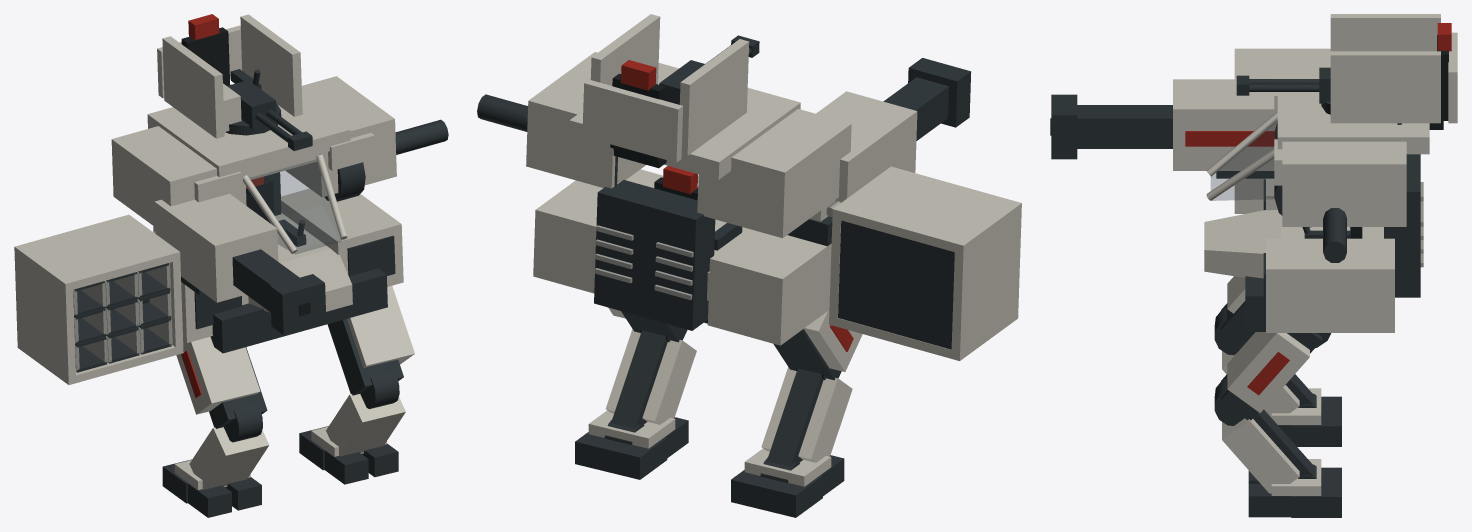
3 renders of one model, left to right at view 1: azimuth 30°, elevation 25°; view 2: azimuth 150°, elevation 25°; view 3: azimuth 270°, elevation 25°, orthographic. The views are drawn at different scales.
Visible parts, largest first — view 1: mech-torso-painted, mech-silo-left-lower-painted, mech-cannon-recoil-painted, mech-mg-yaw-roof-painted, mech-torso-glazing, mech-hip-1-painted, mech-hip-0-painted, mech-knee-0-painted, mech-knee-1-painted, mech-ankle-0-painted, mech-ankle-1-painted, mech-mg-pitch-roof-painted (+2 smaller); view 2: mech-torso-painted, mech-silo-left-lower-painted, mech-mg-yaw-roof-painted, mech-cannon-recoil-painted, mech-knee-1-painted, mech-knee-0-painted, mech-ankle-1-painted, mech-ankle-0-painted, mech-hip-0-painted, mech-seat-gunner-painted, mech-seat-pilot-painted, mech-mg-pitch-roof-painted (+2 smaller); view 3: mech-torso-painted, mech-cannon-recoil-painted, mech-mg-yaw-roof-painted, mech-hip-1-painted, mech-knee-1-painted, mech-ankle-1-painted, mech-silo-left-lower-painted, mech-ankle-0-painted, mech-torso-glazing, mech-knee-0-painted, mech-mg-pitch-roof-painted, mech-hip-0-painted (+1 smaller).
Boxes of the visible parts, box(x1,y1,x2,y2) form: mech-torso-painted: box(111, 76, 448, 353); mech-silo-left-lower-painted: box(14, 214, 183, 384); mech-cannon-recoil-painted: box(153, 193, 326, 335); mech-mg-yaw-roof-painted: box(157, 14, 302, 138); mech-torso-glazing: box(247, 159, 341, 254); mech-hip-1-painted: box(327, 286, 414, 395); mech-hip-0-painted: box(176, 336, 267, 428); mech-knee-0-painted: box(189, 404, 269, 489); mech-knee-1-painted: box(326, 371, 405, 456); mech-ankle-0-painted: box(162, 459, 261, 517); mech-ankle-1-painted: box(299, 426, 398, 484); mech-mg-pitch-roof-painted: box(223, 80, 312, 150); mech-torso-painted: box(477, 52, 851, 345); mech-silo-left-lower-painted: box(829, 166, 1021, 360); mech-mg-yaw-roof-painted: box(582, 14, 749, 162); mech-cannon-recoil-painted: box(810, 58, 971, 221); mech-knee-1-painted: box(605, 329, 696, 428); mech-knee-0-painted: box(761, 367, 852, 466); mech-ankle-1-painted: box(575, 410, 688, 479); mech-ankle-0-painted: box(731, 448, 844, 517); mech-hip-0-painted: box(773, 310, 862, 380); mech-seat-gunner-painted: box(610, 60, 666, 168); mech-seat-pilot-painted: box(654, 166, 742, 250); mech-mg-pitch-roof-painted: box(659, 35, 759, 104); mech-torso-painted: box(1204, 56, 1429, 332); mech-cannon-recoil-painted: box(1050, 79, 1277, 170); mech-mg-yaw-roof-painted: box(1321, 14, 1457, 123); mech-hip-1-painted: box(1221, 332, 1331, 420); mech-knee-1-painted: box(1214, 378, 1313, 493); mech-ankle-1-painted: box(1248, 459, 1341, 517); mech-silo-left-lower-painted: box(1234, 48, 1330, 213); mech-ankle-0-painted: box(1271, 388, 1341, 446); mech-torso-glazing: box(1211, 118, 1277, 200); mech-knee-0-painted: box(1214, 307, 1313, 417); mech-mg-pitch-roof-painted: box(1236, 67, 1330, 103); mech-hip-0-painted: box(1221, 276, 1254, 345).
Bounding box in the file's own units: 33.17 × 30.55 × 25.88.
